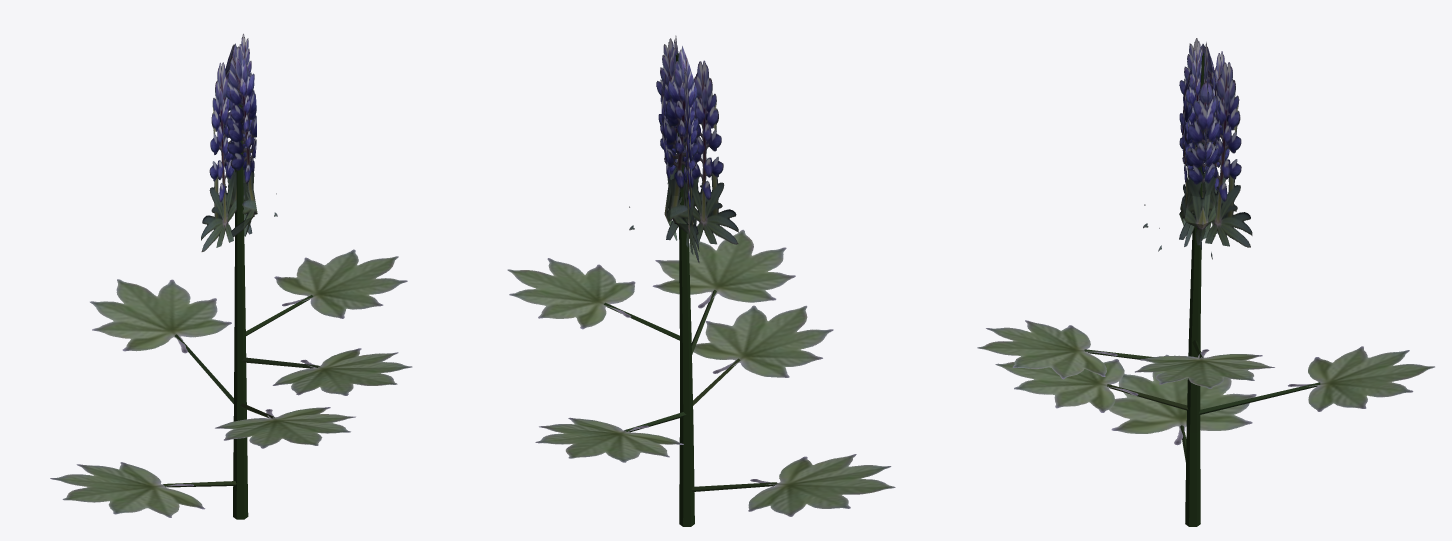
The model's file is category_mesh_flower_1_v1.glb.
3 renders of one model, left to right at view 1: azimuth 30°, elevation 25°; view 2: azimuth 150°, elevation 25°; view 3: azimuth 270°, elevation 25°, orthographic. The views are drawn at different scales.
Visible parts, largest first — view 1: category_mesh_flower_1_v1; view 2: category_mesh_flower_1_v1; view 3: category_mesh_flower_1_v1.
Part boxes in pixels (x1,y1,x2,y2): category_mesh_flower_1_v1: (50, 33, 412, 519); category_mesh_flower_1_v1: (507, 35, 895, 526); category_mesh_flower_1_v1: (977, 38, 1434, 526).
Size of the model in its own units: 0.3541 by 0.4367 by 0.3886.
Materials: 1 (1 with a texture image).
